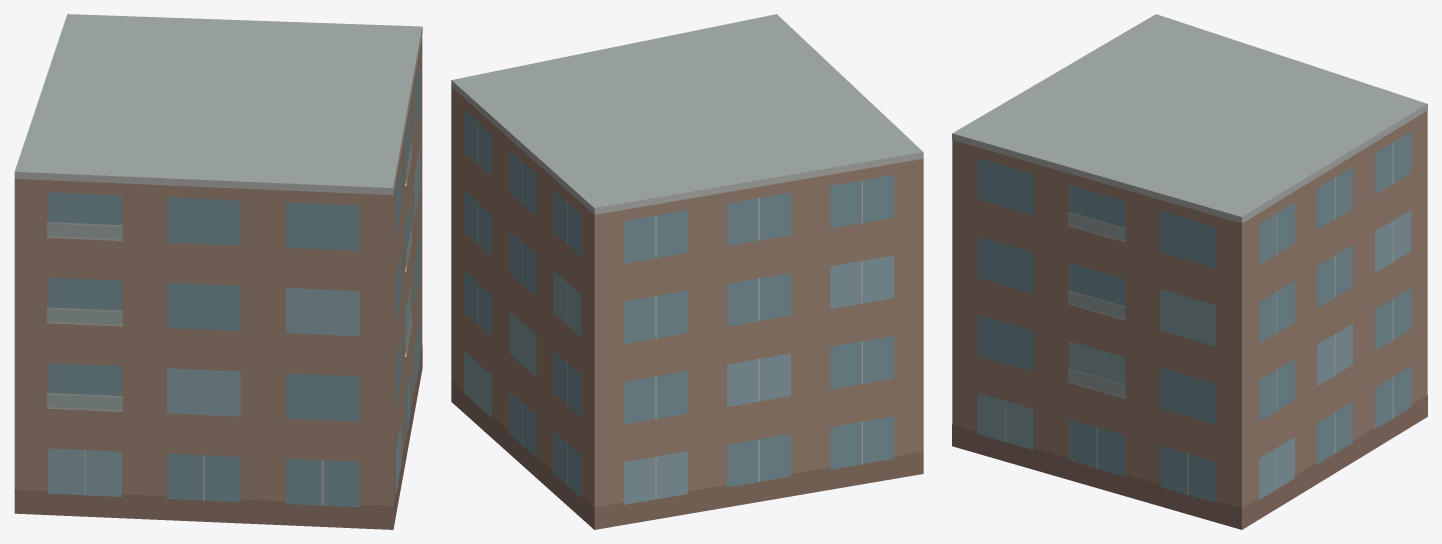
Rendered from survey-upis-33013581.glb.
3 renders of one model, left to right at view 1: azimuth 30°, elevation 25°; view 2: azimuth 150°, elevation 25°; view 3: azimuth 270°, elevation 25°, orthographic. The views are drawn at different scales.
Visible parts, largest first — view 1: survey-upis-33013581.tmp; view 2: survey-upis-33013581.tmp; view 3: survey-upis-33013581.tmp.
Boxes of the visible parts, box(x1,y1,x2,y2) form: survey-upis-33013581.tmp: box(14, 14, 422, 529); survey-upis-33013581.tmp: box(451, 14, 923, 529); survey-upis-33013581.tmp: box(952, 14, 1427, 529).
Size of the model in its own units: 16.54 by 11.87 by 16.37.
